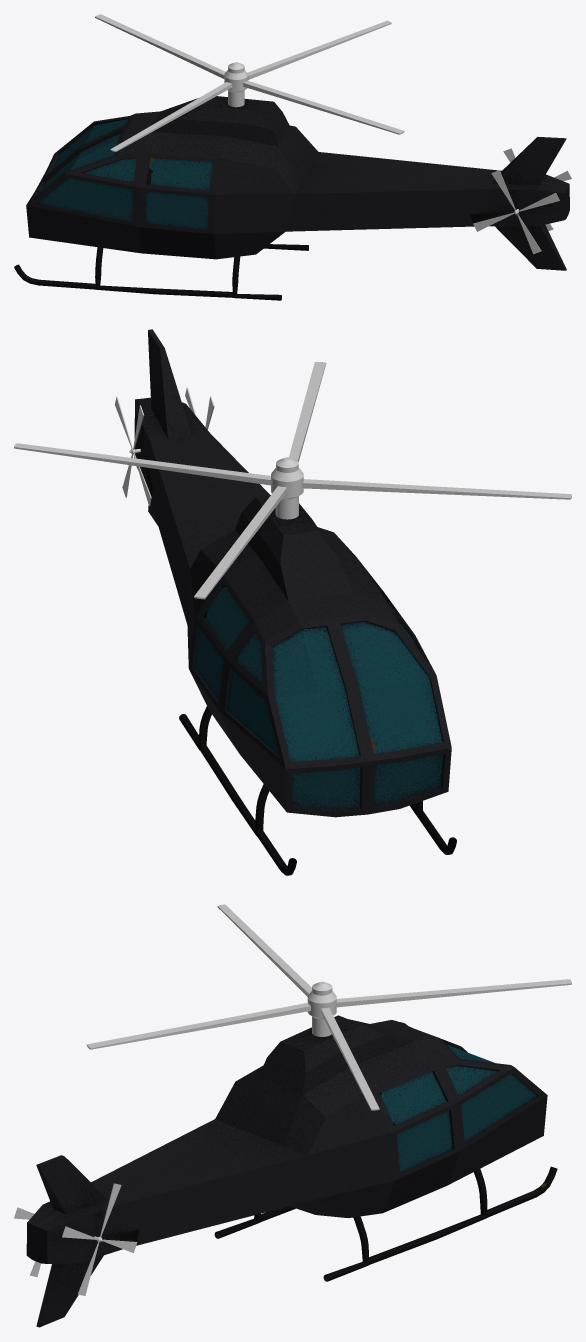
The model's file is anim_000129.obj.
3 renders of one model, top to bottom at view 1: azimuth 30°, elevation 25°; view 2: azimuth 150°, elevation 25°; view 3: azimuth 270°, elevation 25°, orthographic. The views are drawn at different scales.
Parts seen in each view (by area): view 1: Helicopter.007_Cylinder.008, Helicopter.001_Cylinder.001, Helicopter.003_Cylinder.004; view 2: Helicopter.007_Cylinder.008, Helicopter.001_Cylinder.001, Helicopter.004_Cylinder.005; view 3: Helicopter.007_Cylinder.008, Helicopter.001_Cylinder.001, Helicopter.004_Cylinder.005.
Part boxes in pixels (<box>): Helicopter.007_Cylinder.008: <box>14,96,569,300</box>; Helicopter.001_Cylinder.001: <box>95,14,404,151</box>; Helicopter.003_Cylinder.004: <box>473,170,559,254</box>; Helicopter.007_Cylinder.008: <box>134,329,456,875</box>; Helicopter.001_Cylinder.001: <box>14,362,571,599</box>; Helicopter.004_Cylinder.005: <box>115,396,151,506</box>; Helicopter.007_Cylinder.008: <box>26,1015,557,1327</box>; Helicopter.001_Cylinder.001: <box>86,904,571,1110</box>; Helicopter.004_Cylinder.005: <box>62,1183,137,1295</box>.
Size of the model in its own units: 6.28 by 3.21 by 6.13.
